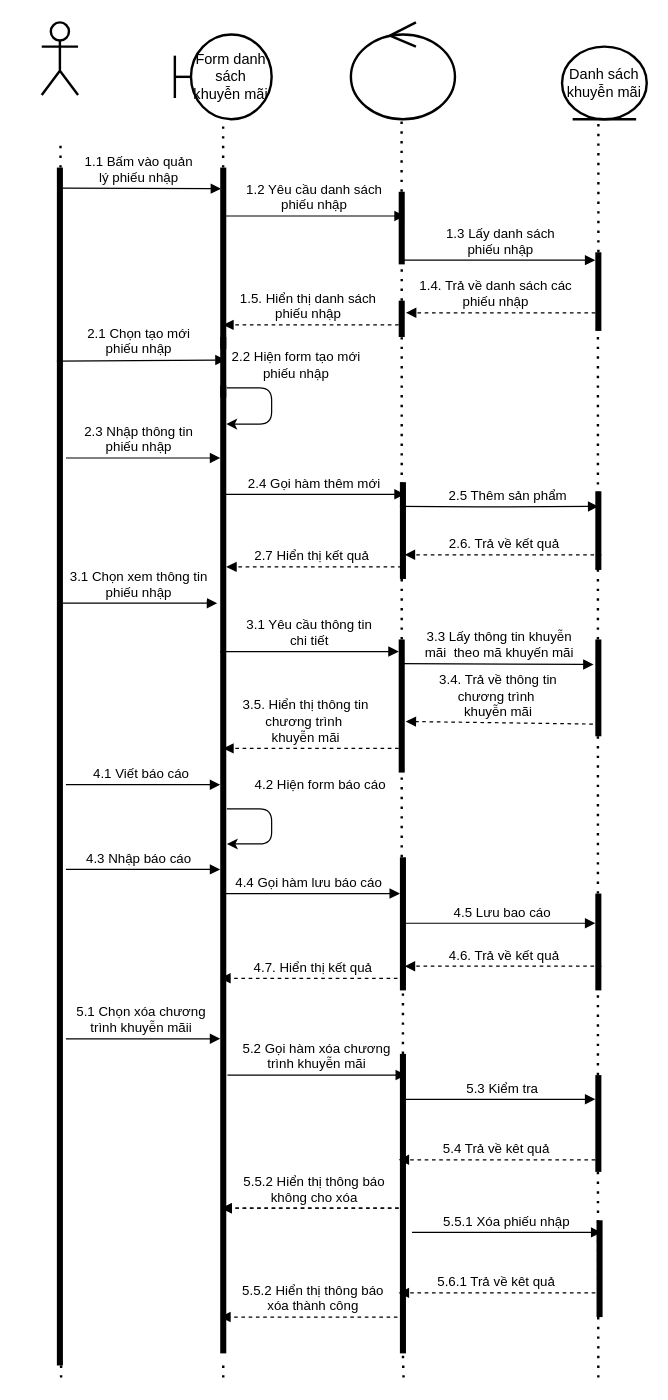
This 668x1400 diagram has some shape labels left out. The centre of each missing label's shape, as x and y in pixels:
Người dùng: the point at 59,58
Quản lý danh sách khuyễn mãi: the point at 402,70
